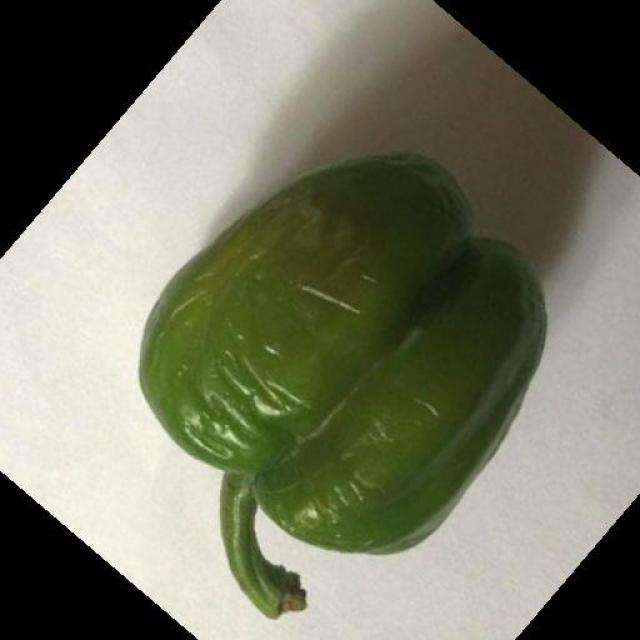Stale_Capsicum: (145, 186, 509, 580)
